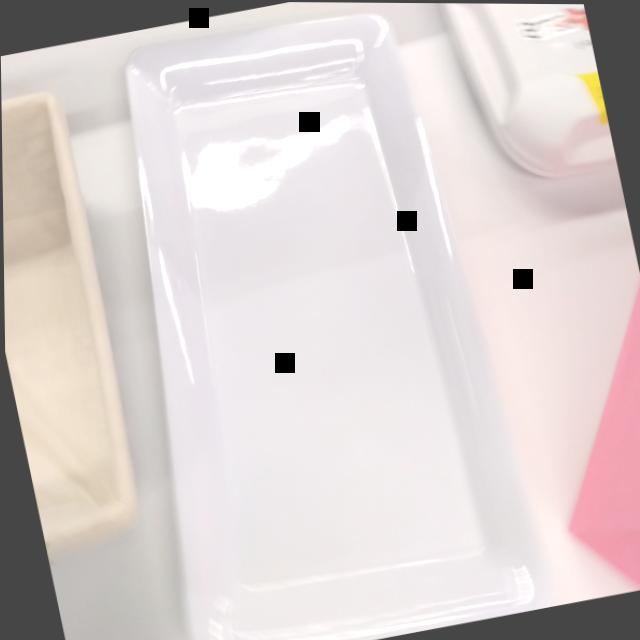basket: (1, 45, 163, 587)
tray: (62, 0, 557, 640)
